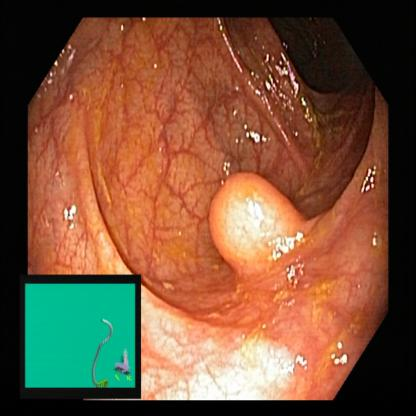Labels: (24, 275, 141, 398)
Polyps: (207, 168, 316, 277)
